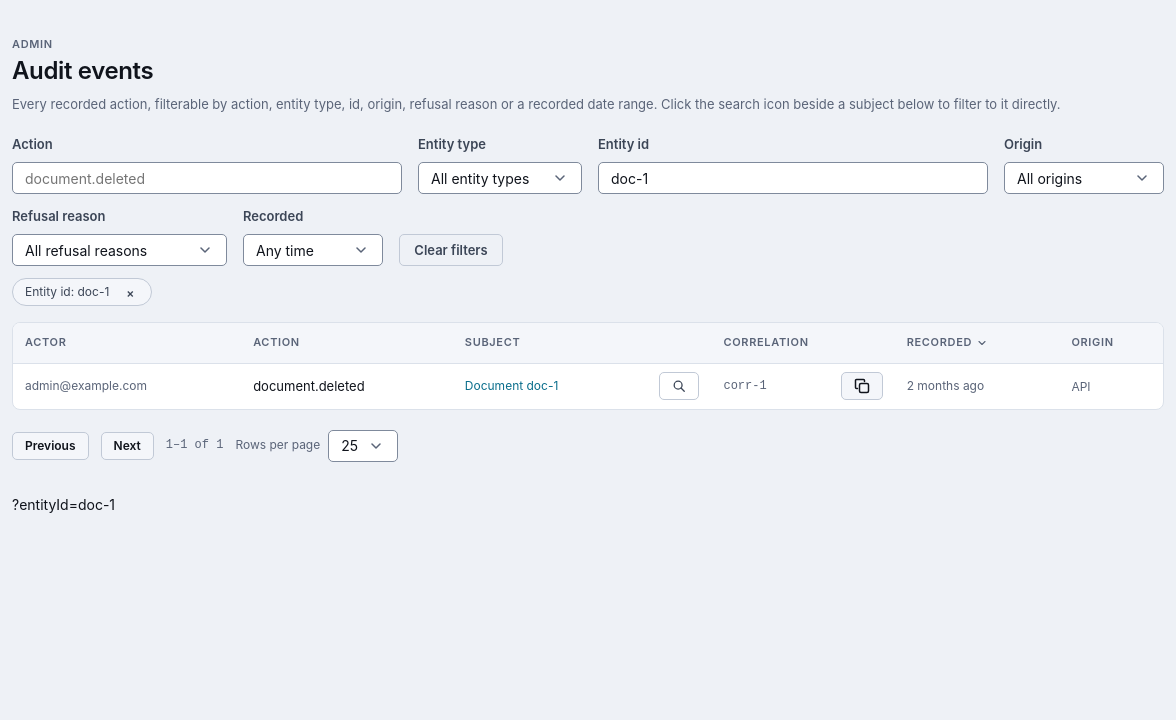
it: AuditEventsPage › resets a mistyped entity id draft when a row filters to the subject already applied
Check: the text "document.deleted" is shown, box [241,364,453,409]
Replace the text in the field labelled "Entity id" with "bad" at [793, 178], box [598,162,988,194]
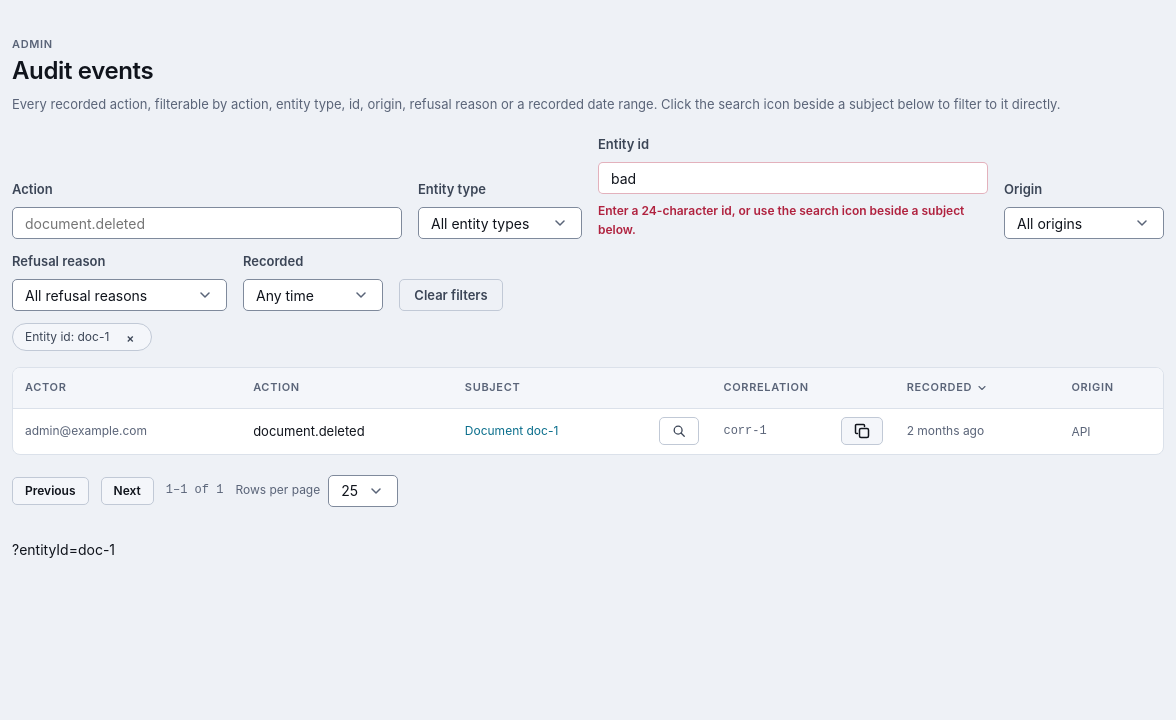
Check: the text "Enter a 24-character id, or use the search icon beside a subject below." is shown, box [598,202,988,239]
Click the button named "Filter to Document doc-1" at [680, 431], box [660,417,700,445]
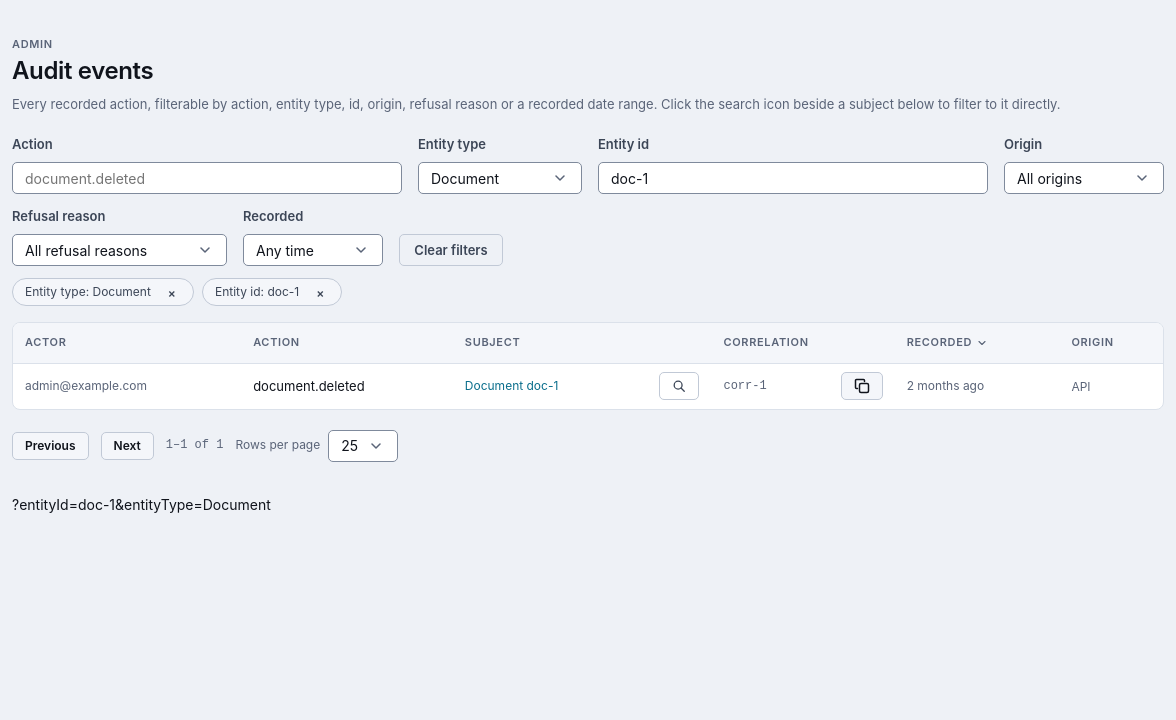
Check: the field labelled "Entity id" holds "doc-1", box [598,162,988,194]
Check: the text "Enter a 24-character id, or use the search icon beside a subject below." is gone
